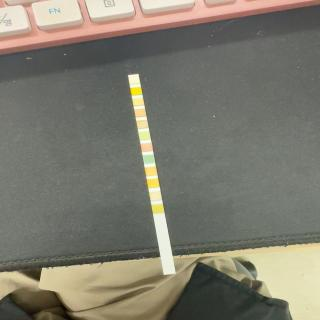mark: (143, 154, 155, 164), (147, 179, 159, 188), (141, 143, 153, 152), (153, 204, 164, 213), (146, 167, 157, 176), (135, 108, 146, 117), (150, 192, 162, 200), (130, 87, 142, 95), (128, 76, 140, 84), (139, 131, 150, 139), (137, 120, 148, 128), (133, 98, 144, 106)
